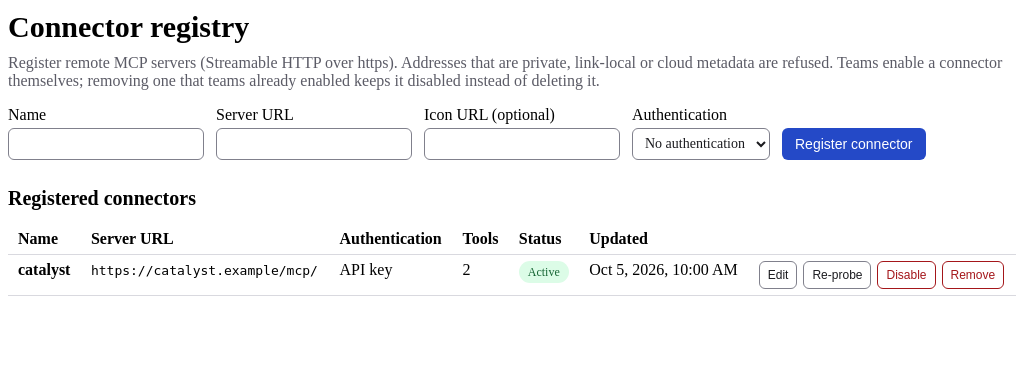
Scenario: Re-probe (KOBE-430) › shows the rate limit and a running refresh
Step 1. Click the button named "Re-probe catalyst" → (838, 274), box [804,260,872,288]
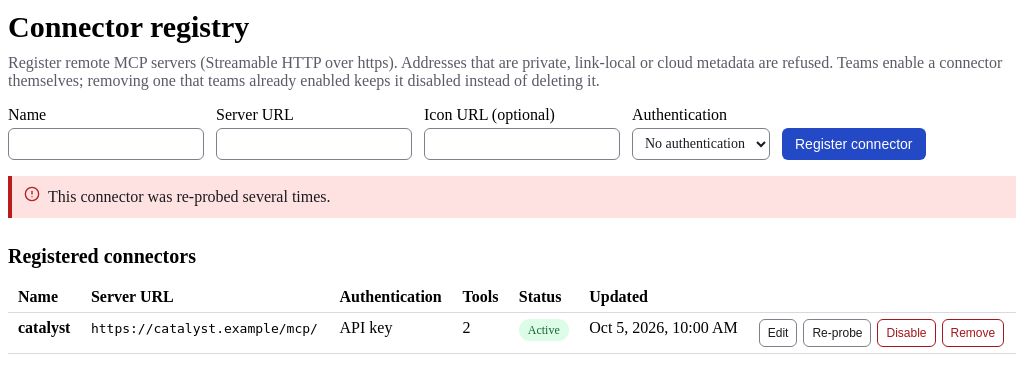
Now the message shows "re-probed several times", box [48,188,331,204]
Step 2. Click the button named "Re-probe catalyst" → (838, 332), box [804,318,872,346]
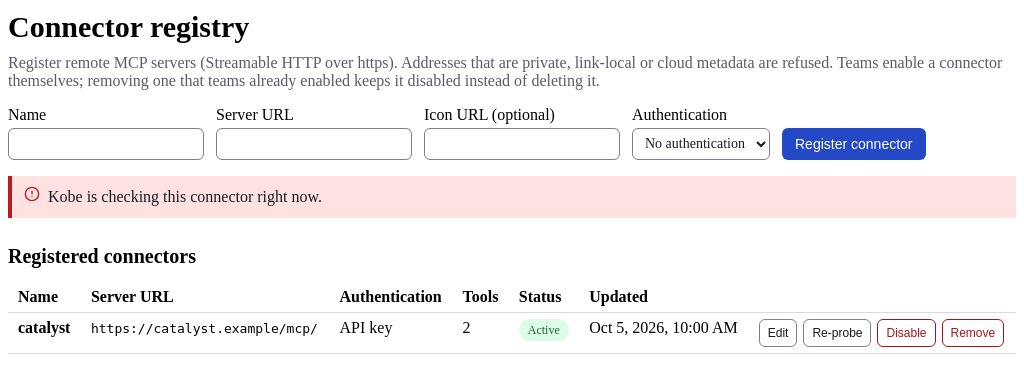
Now the message shows "checking this connector", box [48,188,322,204]
